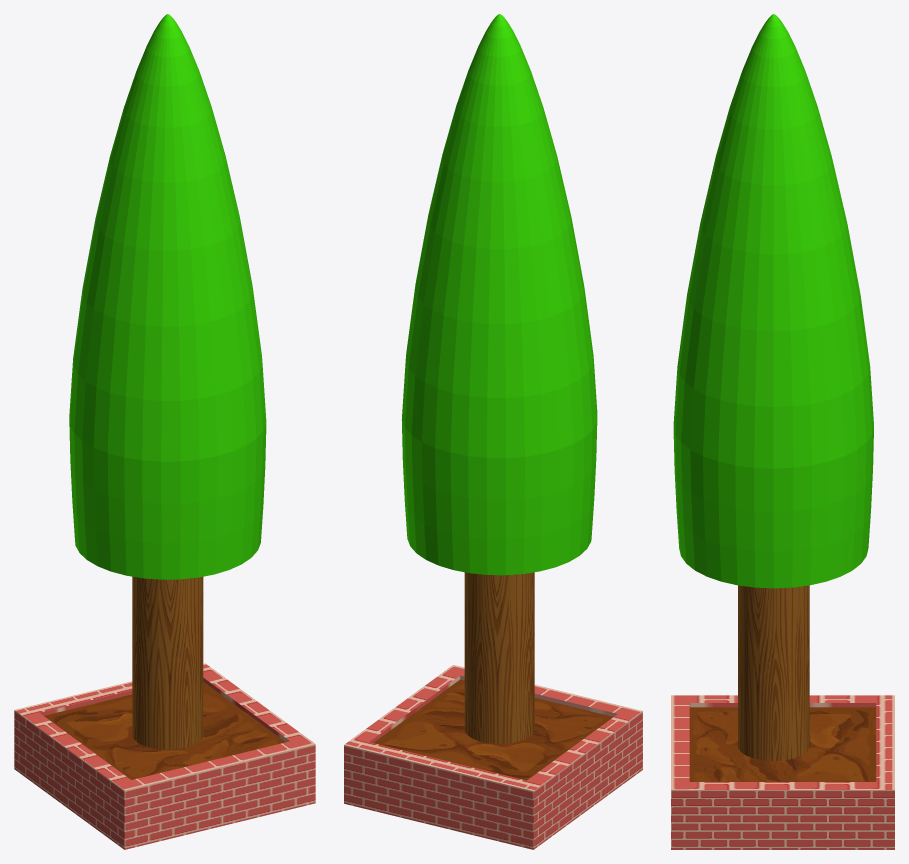
The model's file is Escenario (1).fbx.
3 views of the same model, side by side, from view 1: azimuth 30°, elevation 25°; view 2: azimuth 150°, elevation 25°; view 3: azimuth 270°, elevation 25° (orthographic). The views are drawn at different scales.
Visible parts, largest first — view 1: Cylinder.002; view 2: Cylinder.002; view 3: Cylinder.002.
Part boxes in pixels (x1,y1,x2,y2): Cylinder.002: (14, 14, 315, 849); Cylinder.002: (344, 14, 642, 849); Cylinder.002: (671, 14, 894, 849).
Size of the model in its own units: 325 by 1260 by 325.
4 materials, 3 textured.
